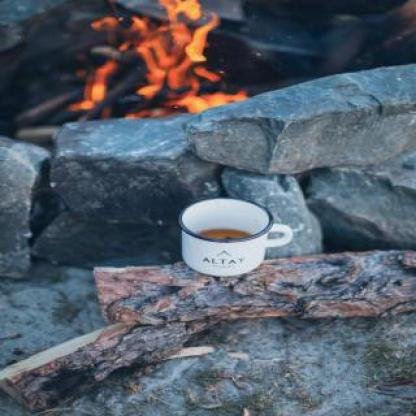Fire: (74, 0, 232, 117)
